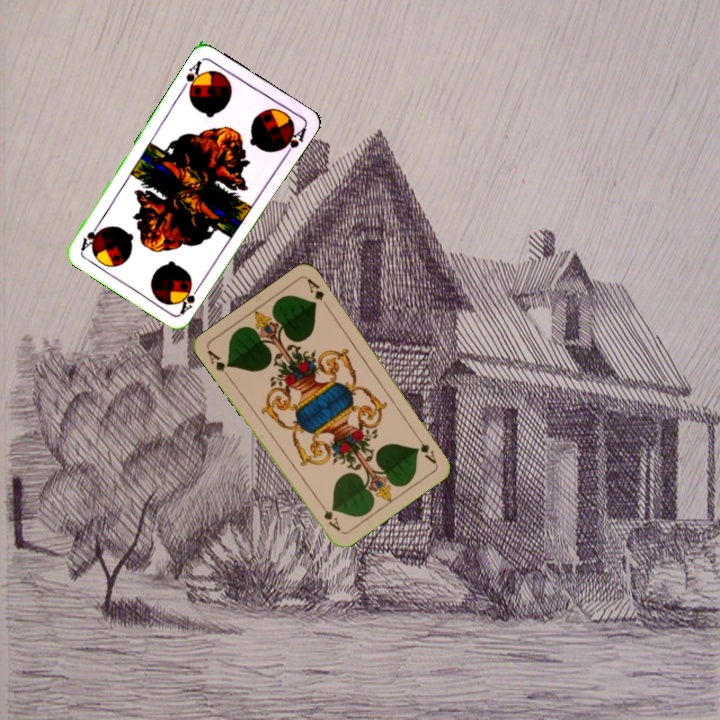GA: (203, 346, 233, 381), (411, 430, 439, 467)
SA: (178, 56, 206, 96), (175, 280, 204, 317)
